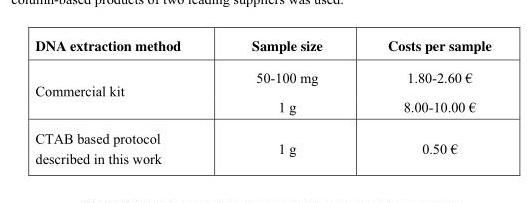table: (34, 35, 490, 166)
table column: (34, 35, 215, 166), (215, 35, 354, 166), (354, 35, 490, 166)
table column header: (34, 35, 490, 62)
table row: (34, 122, 490, 166), (34, 91, 490, 122), (34, 62, 490, 91), (34, 35, 490, 62)
table spanning cell: (34, 62, 215, 122)
